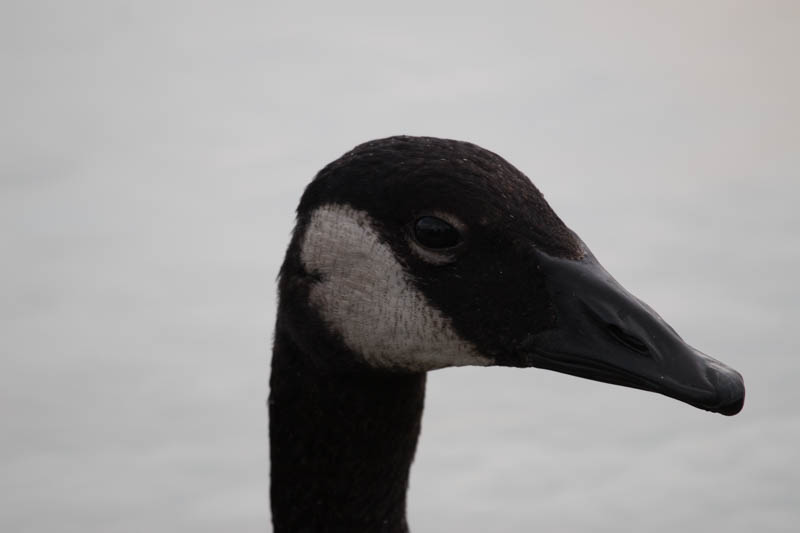goose-head: (271, 134, 746, 416)
